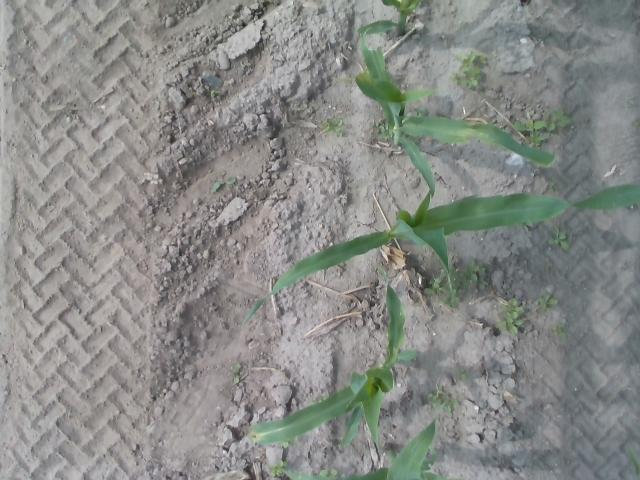Maize: (241, 174, 640, 329), (356, 28, 557, 198), (247, 266, 418, 448), (285, 420, 439, 478), (352, 0, 428, 39)
Weeds: (427, 264, 492, 306), (454, 54, 484, 91), (502, 297, 527, 340), (431, 386, 464, 416), (514, 119, 548, 147), (322, 114, 353, 142), (544, 108, 574, 134), (211, 176, 244, 194), (552, 228, 574, 255), (226, 362, 248, 382), (540, 294, 560, 312), (552, 326, 572, 340), (272, 463, 288, 478)
